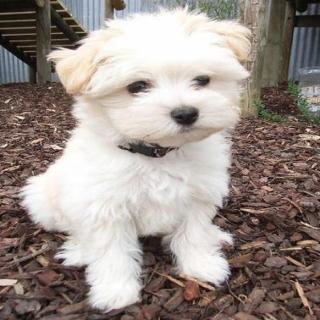dog: (75, 3, 252, 151)
nose: (166, 98, 202, 133)
